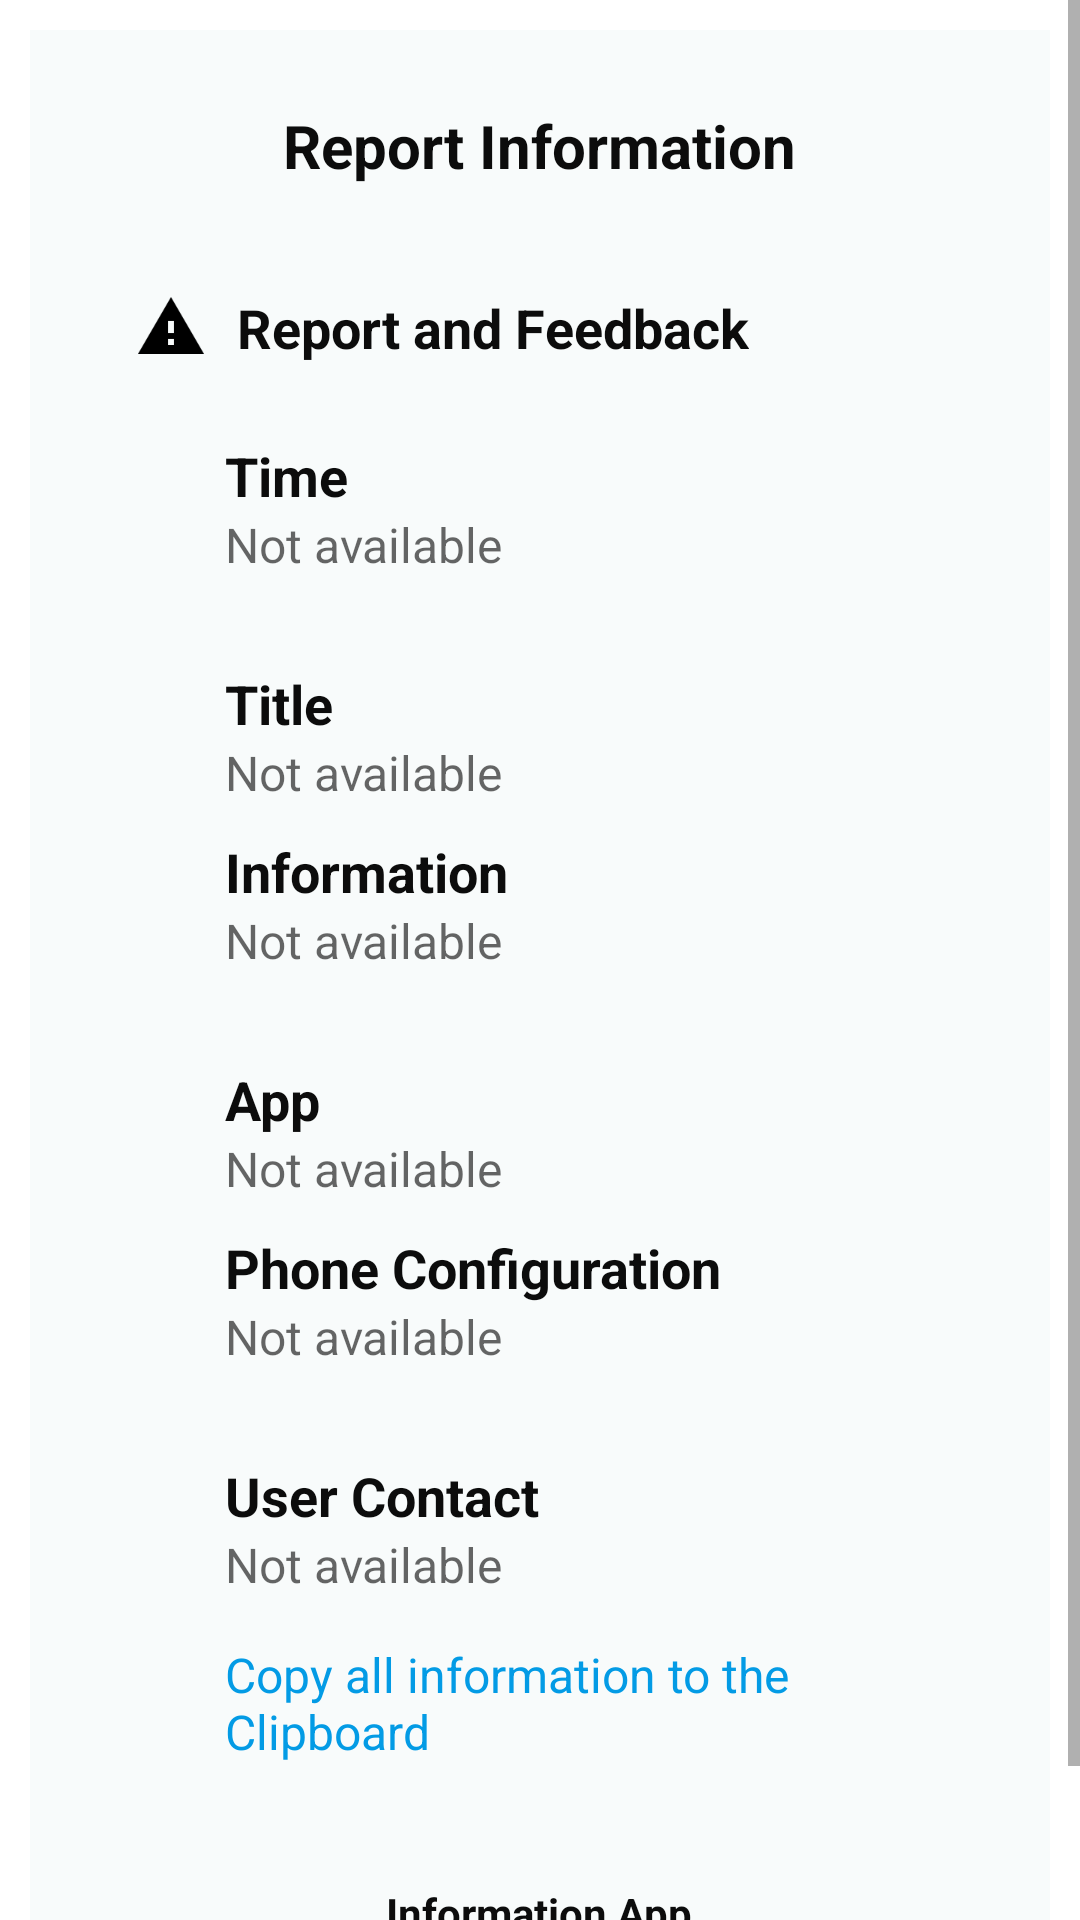

Icons on this 1080px×1920px Android screen, each with its box as {"x1": x1, "y1": y1, "x2": x2, "y2": y2}:
report problem: {"x1": 138, "y1": 297, "x2": 204, "y2": 354}
